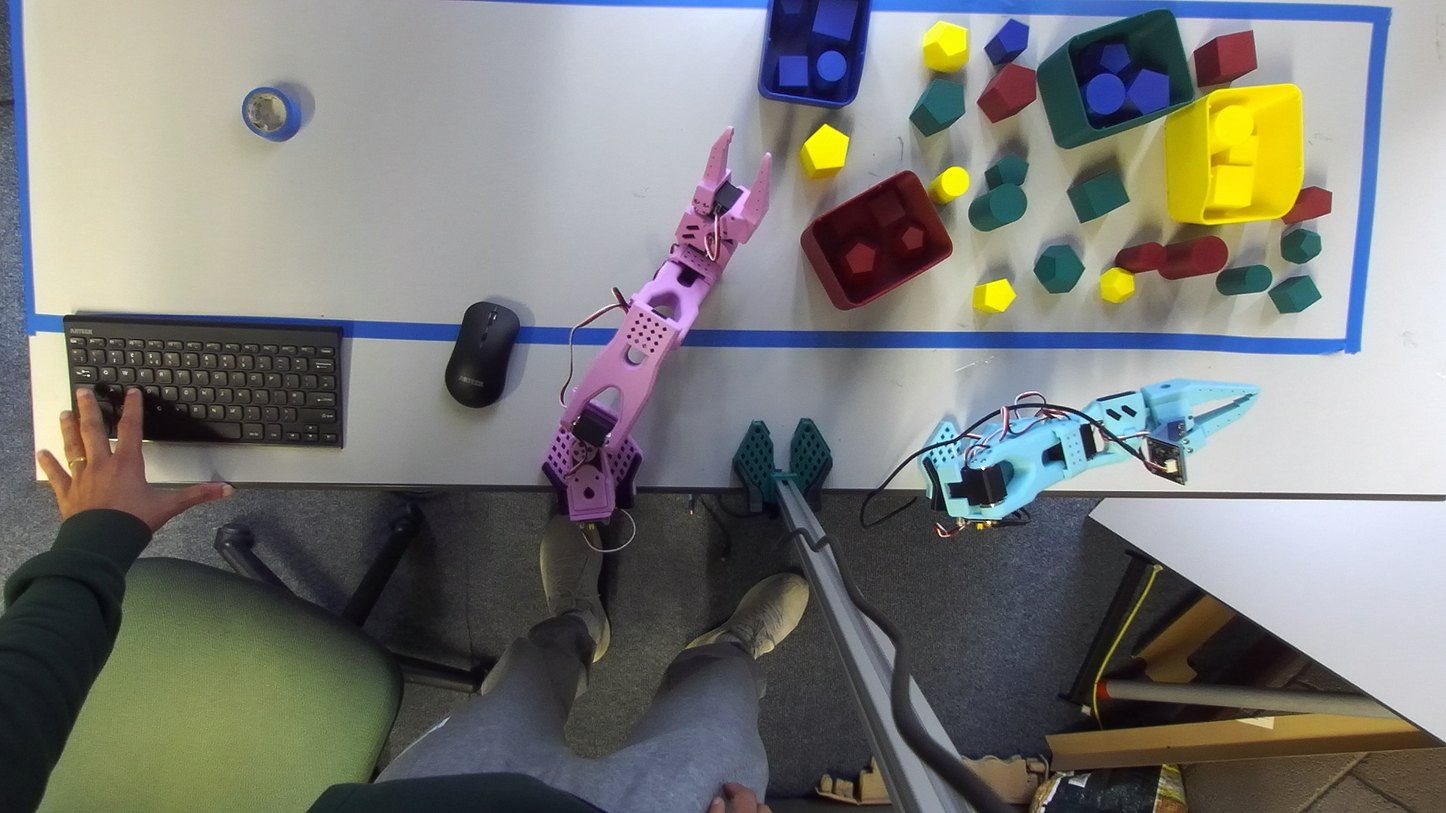bin: (1036, 9, 1195, 148), (801, 171, 952, 309), (1164, 84, 1302, 224), (758, 0, 870, 107)
cube: (1193, 30, 1257, 87), (1067, 169, 1129, 222), (1206, 165, 1252, 209), (1268, 276, 1321, 313), (813, 0, 857, 41), (1211, 130, 1255, 166), (868, 189, 905, 225), (778, 55, 808, 87)
cylinder: (1160, 236, 1228, 279), (969, 184, 1027, 230), (1212, 105, 1253, 149), (1216, 264, 1272, 295), (1084, 73, 1125, 115), (926, 166, 969, 206), (1114, 242, 1166, 273), (816, 50, 847, 82)
dodecahedron: (1034, 245, 1084, 293), (923, 20, 968, 72), (1079, 42, 1130, 75), (1280, 227, 1321, 263), (1100, 267, 1135, 303), (842, 242, 877, 276), (898, 224, 924, 250)
gripper: (673, 126, 771, 282), (1140, 379, 1259, 452)
hexagonal: (978, 64, 1036, 122), (910, 78, 965, 136), (799, 123, 849, 178), (984, 19, 1029, 65), (1280, 186, 1332, 224), (1127, 69, 1169, 114), (985, 154, 1028, 189), (972, 279, 1015, 312)
